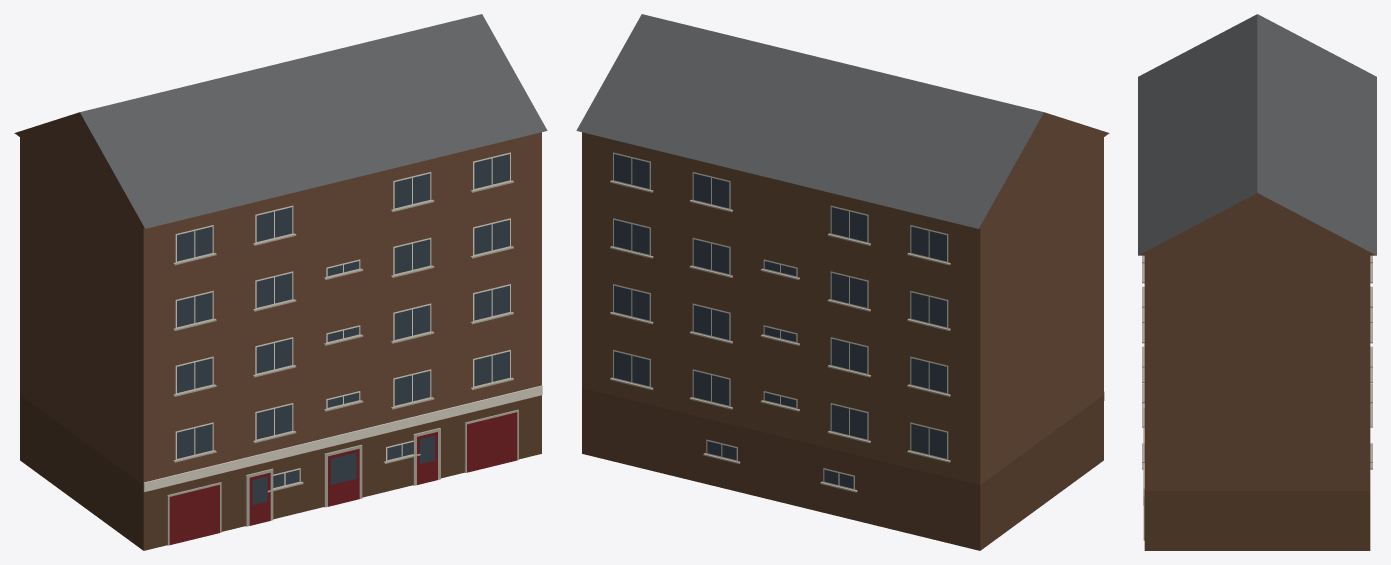
Rendered from nw-slit-window-garage-5st__red-door-porch__5__gable__long__solid.glb.
3 views of the same model, side by side, from view 1: azimuth 30°, elevation 25°; view 2: azimuth 150°, elevation 25°; view 3: azimuth 270°, elevation 25° (orthographic). The views are drawn at different scales.
Parts seen in each view (by area): view 1: nw-slit-window-garage-5st__red-door-porch__5__gable__long__s; view 2: nw-slit-window-garage-5st__red-door-porch__5__gable__long__s; view 3: nw-slit-window-garage-5st__red-door-porch__5__gable__long__s.
Boxes of the visible parts, x1,y1,x2,y2 form: nw-slit-window-garage-5st__red-door-porch__5__gable__long__s: [14, 14, 547, 550]; nw-slit-window-garage-5st__red-door-porch__5__gable__long__s: [576, 14, 1109, 550]; nw-slit-window-garage-5st__red-door-porch__5__gable__long__s: [1138, 14, 1376, 550].
Size of the model in its own units: 19.17 by 17.94 by 10.81.
